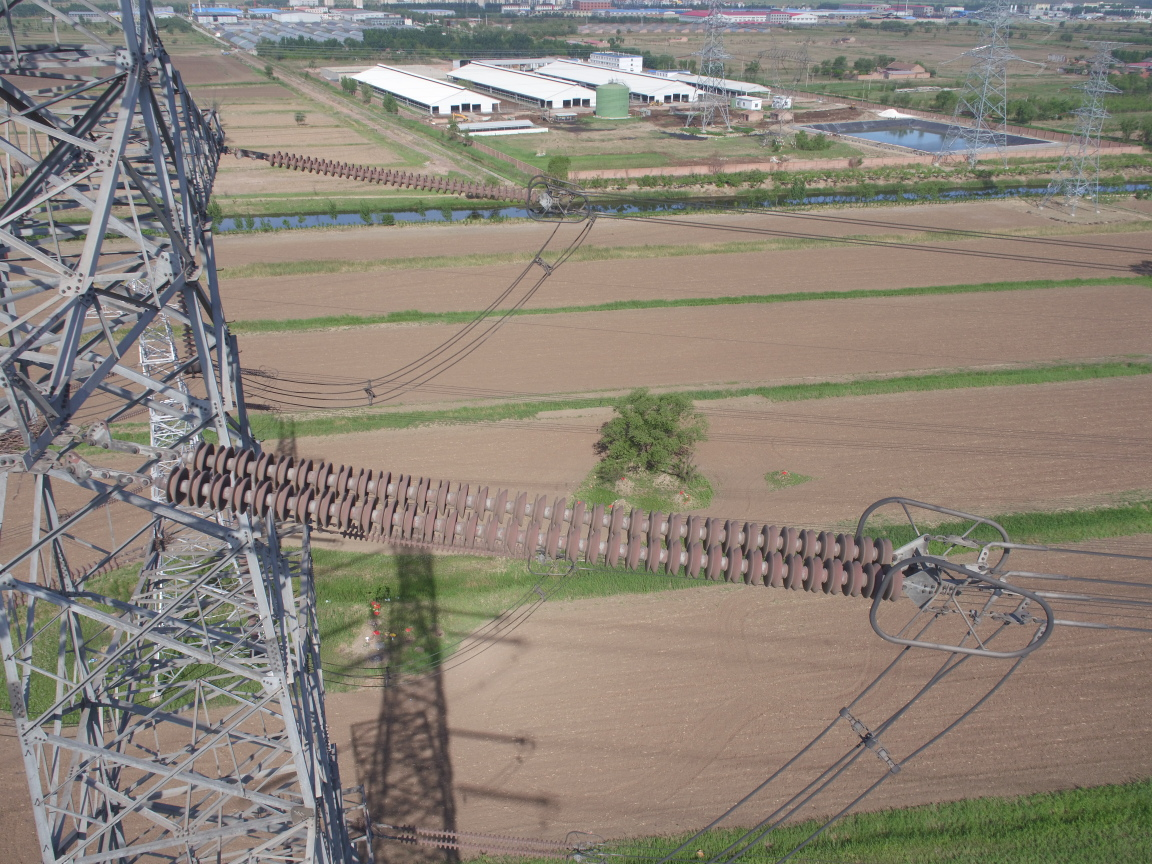insulator: (124, 434, 917, 603), (251, 148, 547, 209)
